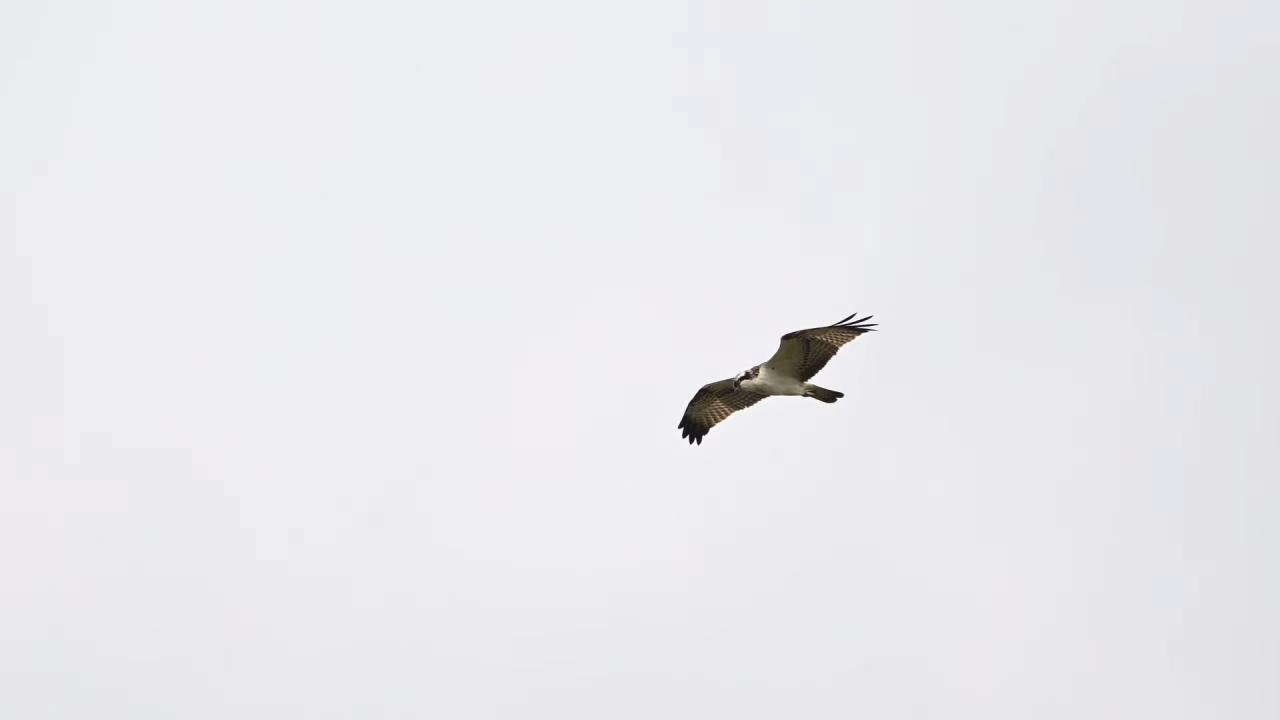Bird: (658, 298, 890, 457)
